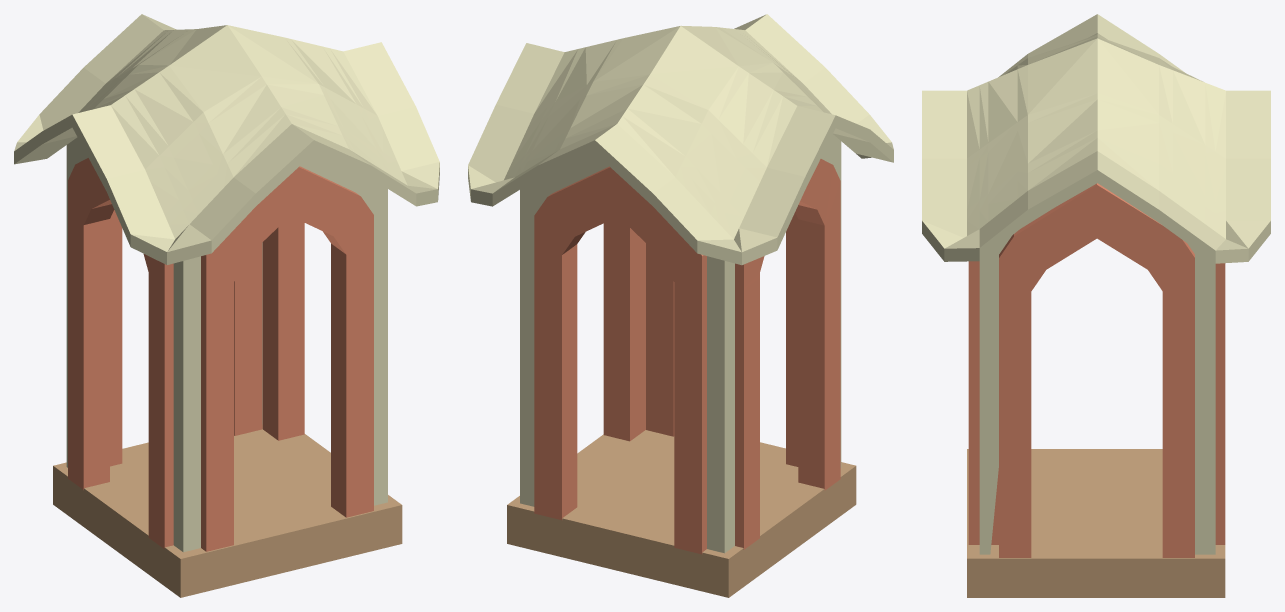
3 renders of one model, left to right at view 1: azimuth 30°, elevation 25°; view 2: azimuth 150°, elevation 25°; view 3: azimuth 270°, elevation 25°, orthographic.
Parts seen in each view (by area): view 1: Segment4; view 2: Segment4; view 3: Segment4.
Boxes of the visible parts, x1,y1,x2,y2 form: Segment4: (14, 14, 439, 597); Segment4: (468, 14, 893, 597); Segment4: (922, 14, 1270, 597).
Size of the model in its own units: 6.09 by 9.38 by 5.87.
